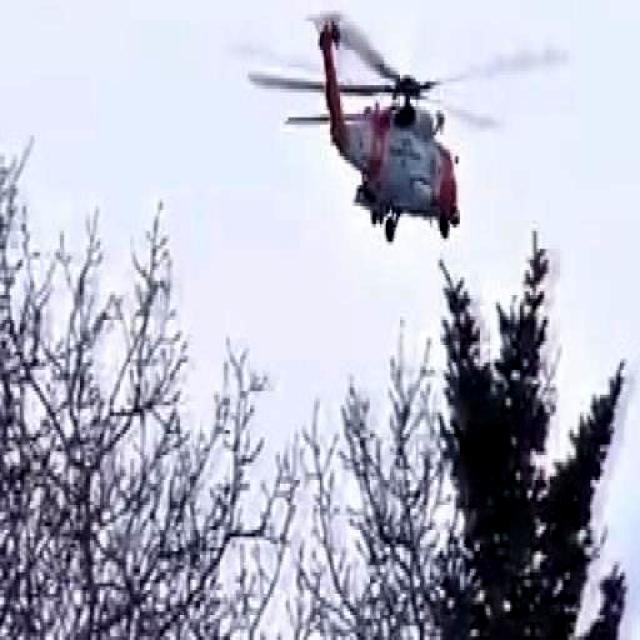drone: (282, 0, 510, 249)
